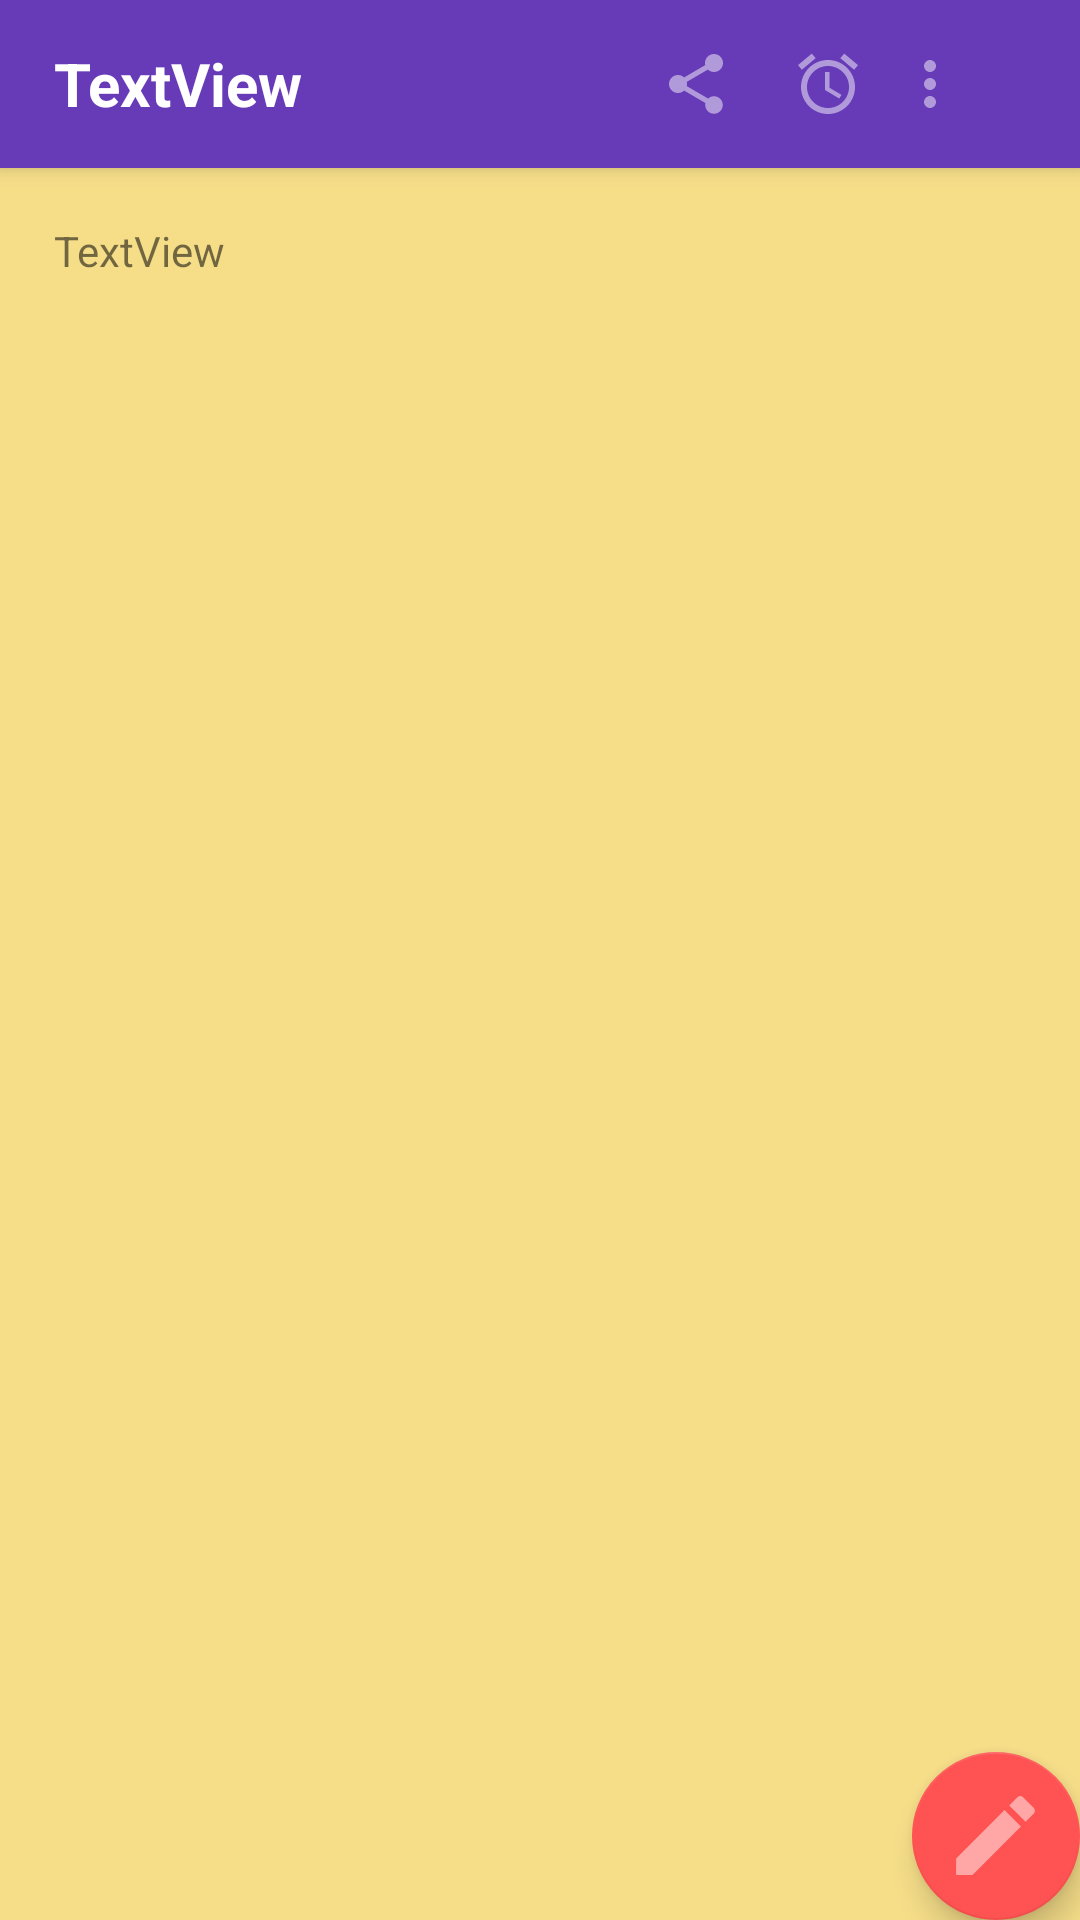

Locate icon controls on the screen. Image size 1080*1920, boxes as (x1, y1, x2, y2).
alarm: (798, 54, 858, 114)
edit: (912, 1752, 1080, 1920)
opmenu: (924, 60, 936, 108)
share: (669, 54, 723, 114)
